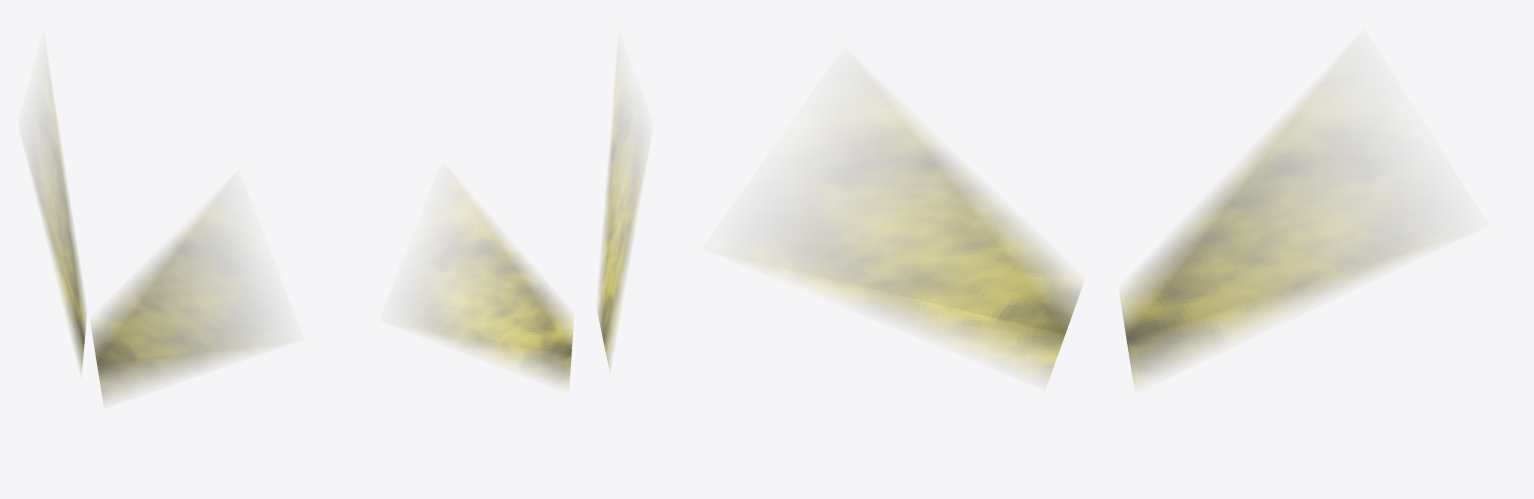
The model's file is boss_chain_glow.glb.
The picture shows the model from 3 angles, left to right: view 1: azimuth 30°, elevation 25°; view 2: azimuth 150°, elevation 25°; view 3: azimuth 270°, elevation 25°; orthographic projection. The views are drawn at different scales.
Visible parts, largest first — view 1: chain_glow; view 2: chain_glow; view 3: chain_glow.
Part boxes in pixels (x1,y1,x2,y2): chain_glow: (30,90,266,400); chain_glow: (414,88,644,386); chain_glow: (769,86,1422,383).
Size of the model in its own units: 3.5 by 10.61 by 18.21.
1 material, 1 textured.
